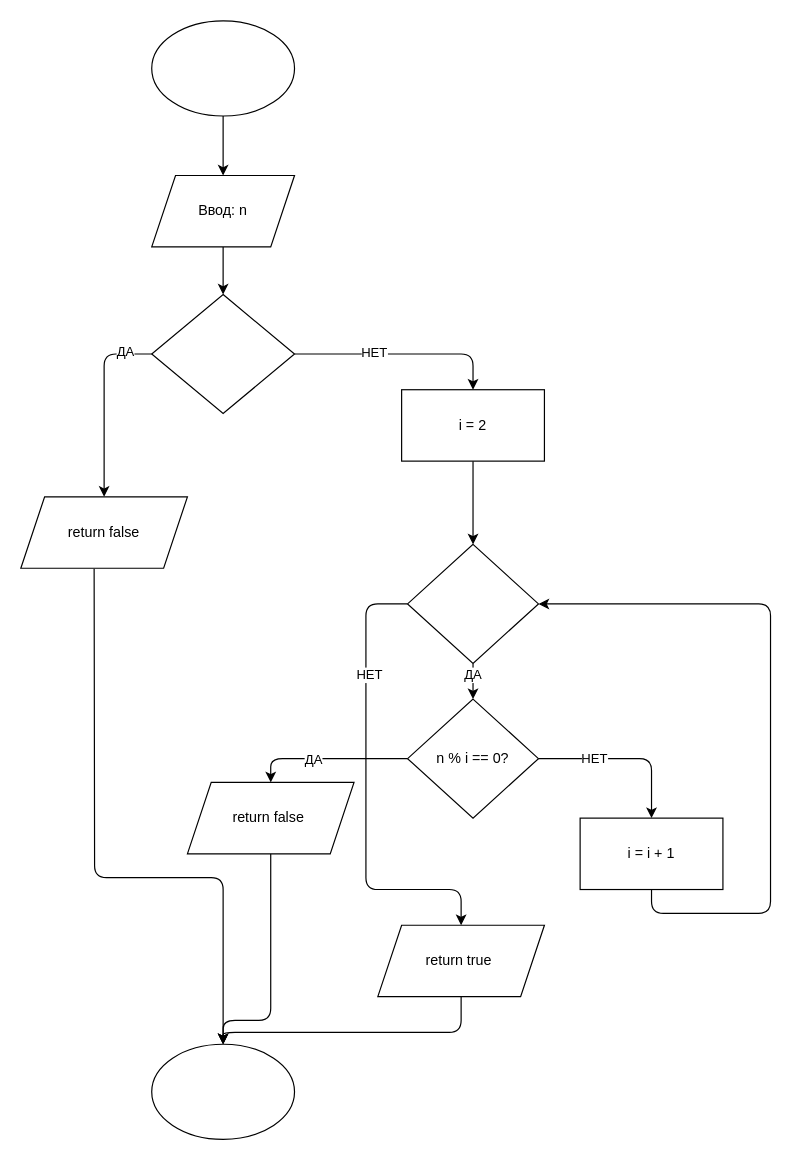
Some shapes in this 801 by 1160 pixel diagram are drawn without their labels. Each missing label, with the centre of its shape:
i * i <= n?: the point at 472,603
n <= 1?: the point at 223,353
Конец IsPrime: the point at 223,1091
Начало IsPrime(n): the point at 223,68
